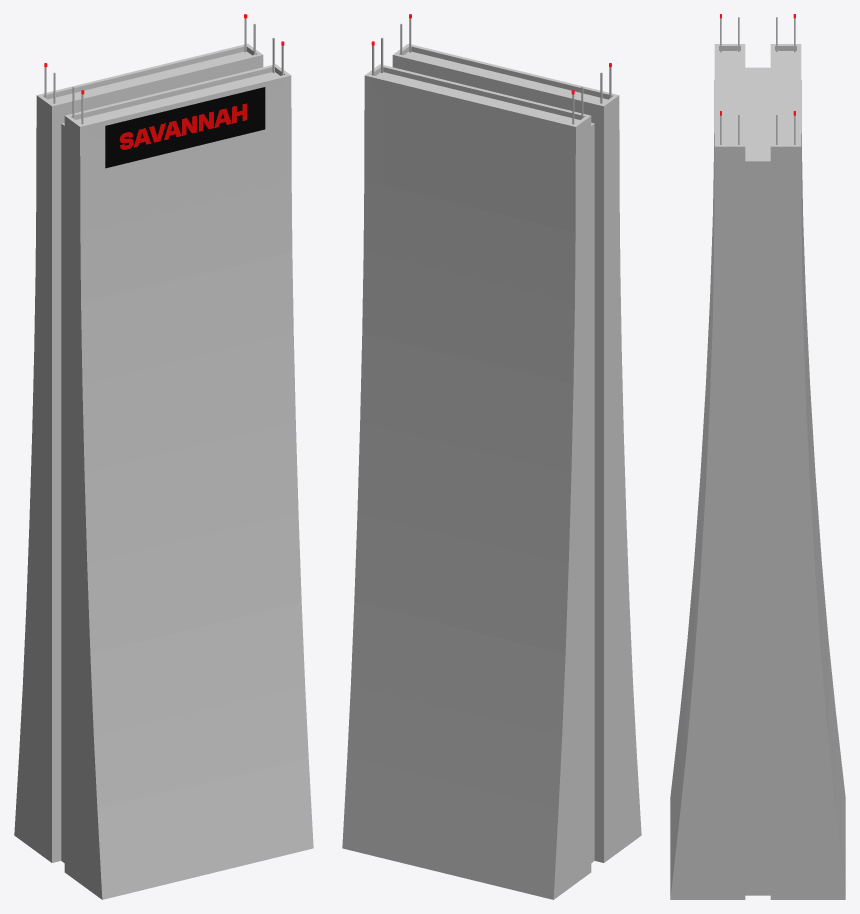
The model's file is building2_b.glb.
3 views of the same model, side by side, from view 1: azimuth 30°, elevation 25°; view 2: azimuth 150°, elevation 25°; view 3: azimuth 270°, elevation 25° (orthographic).
Parts seen in each view (by area): view 1: 立方体.043; view 2: 立方体.043; view 3: 立方体.043.
Boxes of the visible parts, left/top/right/bottom form: 立方体.043: left=14, top=14, right=313, bottom=899; 立方体.043: left=342, top=14, right=641, bottom=899; 立方体.043: left=670, top=14, right=845, bottom=899.
Size of the model in its own units: 11.28 by 40.25 by 8.14.
3 materials, 1 textured.
